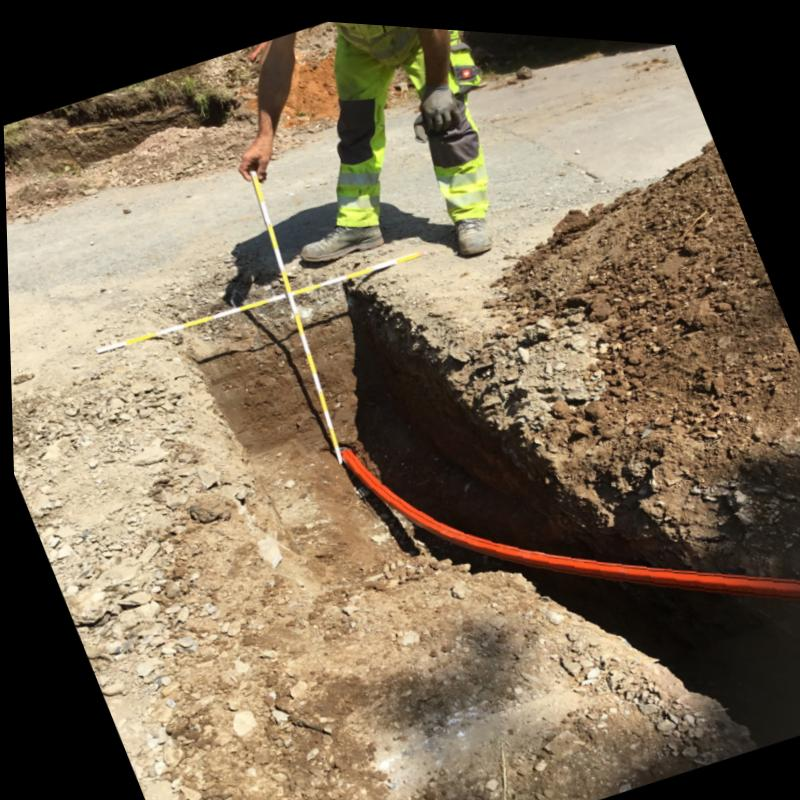Orang-Speednetrohrchen: (340, 444, 800, 591)
